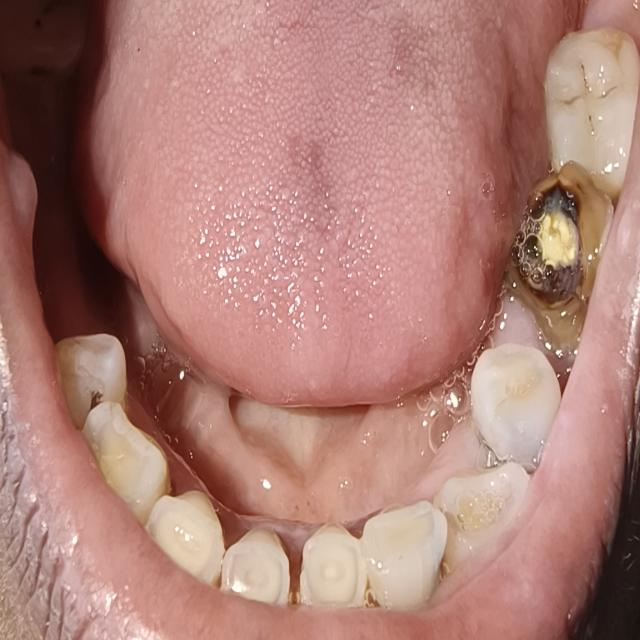processing_area: (86, 1, 573, 512)
